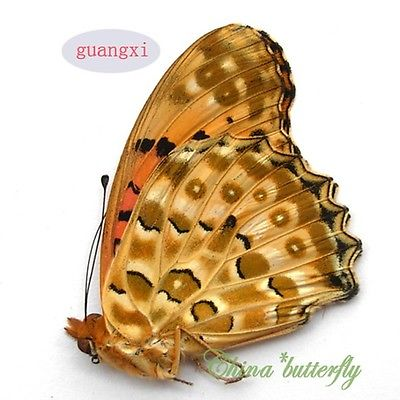Argyreus hyperbius: (57, 17, 365, 386)
butterfly: (59, 19, 367, 388)
